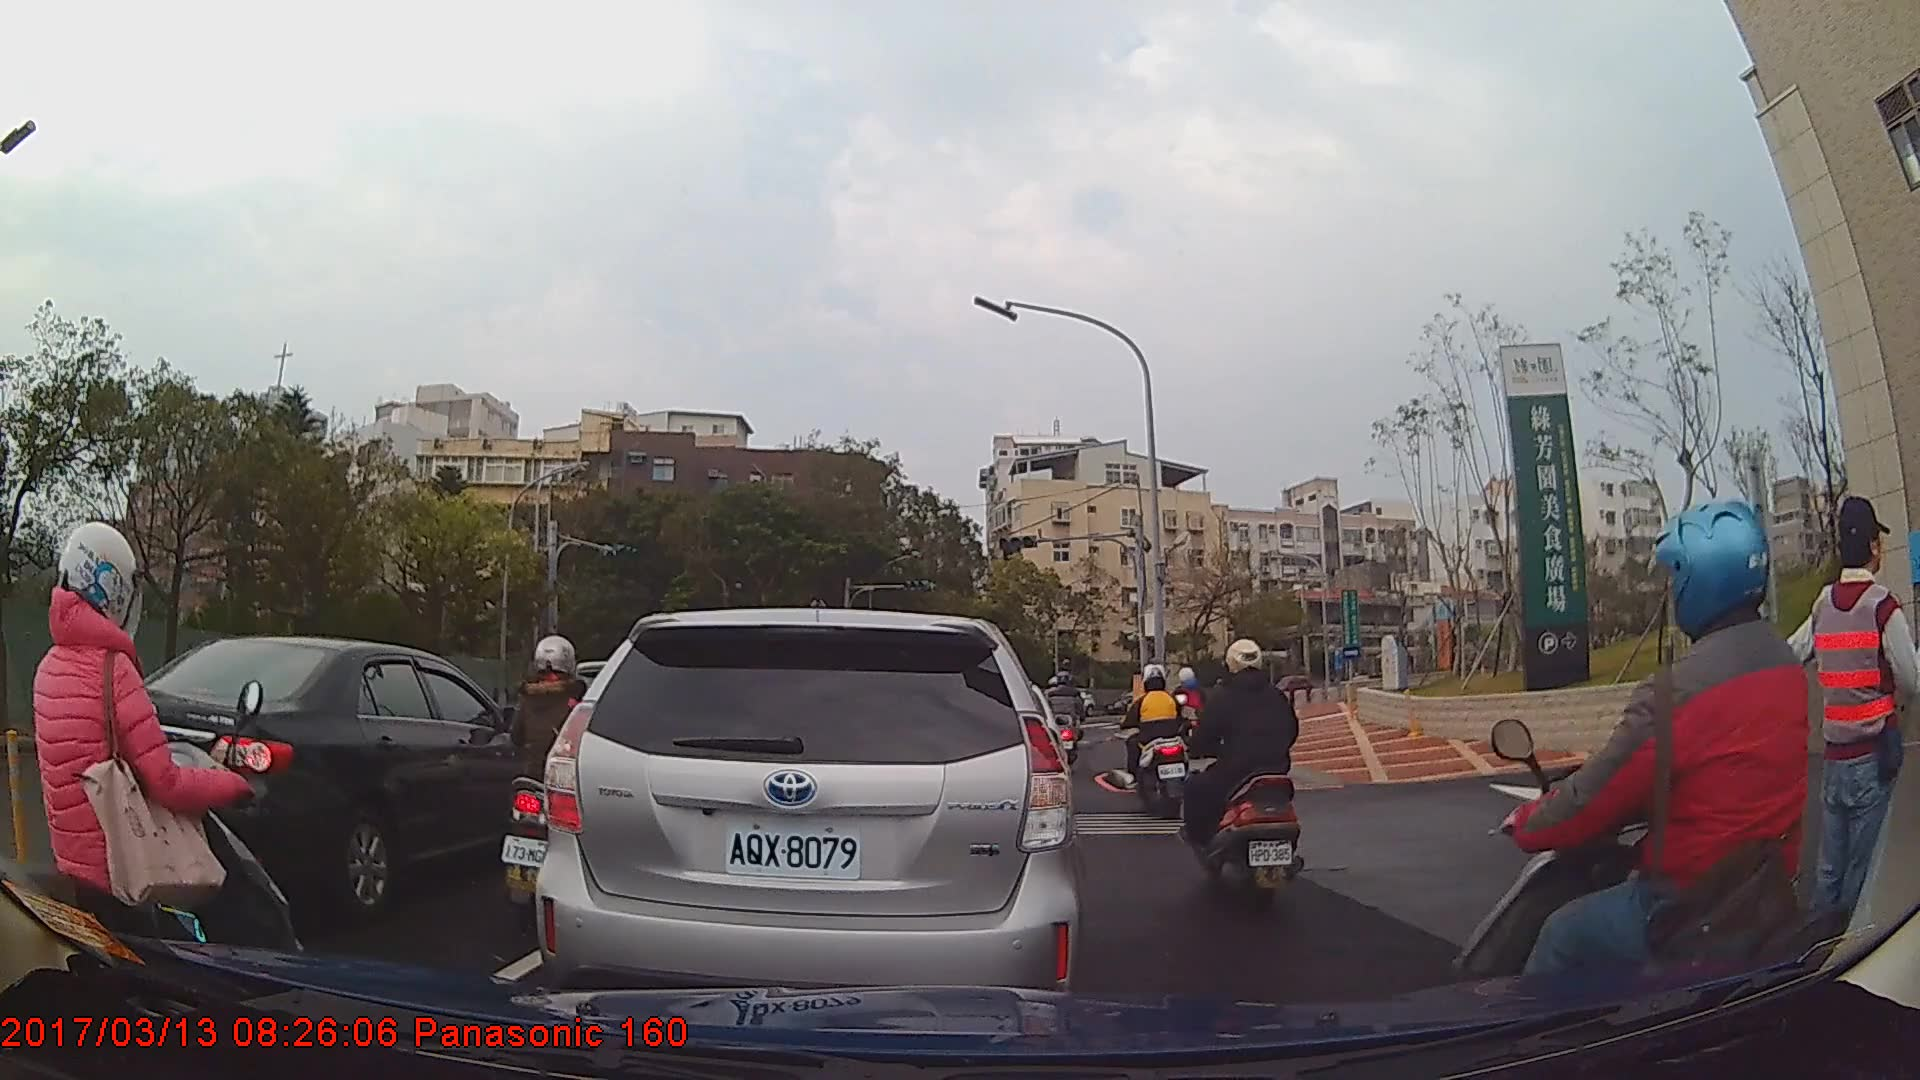pedestrian: (1750, 497, 1920, 979)
rider: (1462, 495, 1855, 1065), (1, 516, 313, 1067), (1179, 637, 1309, 917), (500, 634, 619, 923), (1120, 661, 1198, 824), (1044, 671, 1087, 768), (1168, 663, 1209, 759)
vehicle: (534, 606, 1085, 1024), (76, 636, 568, 920)
